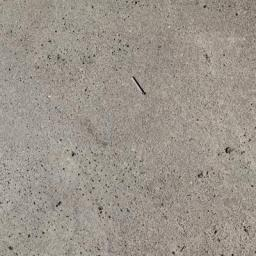FOD: (129, 74, 150, 100)
